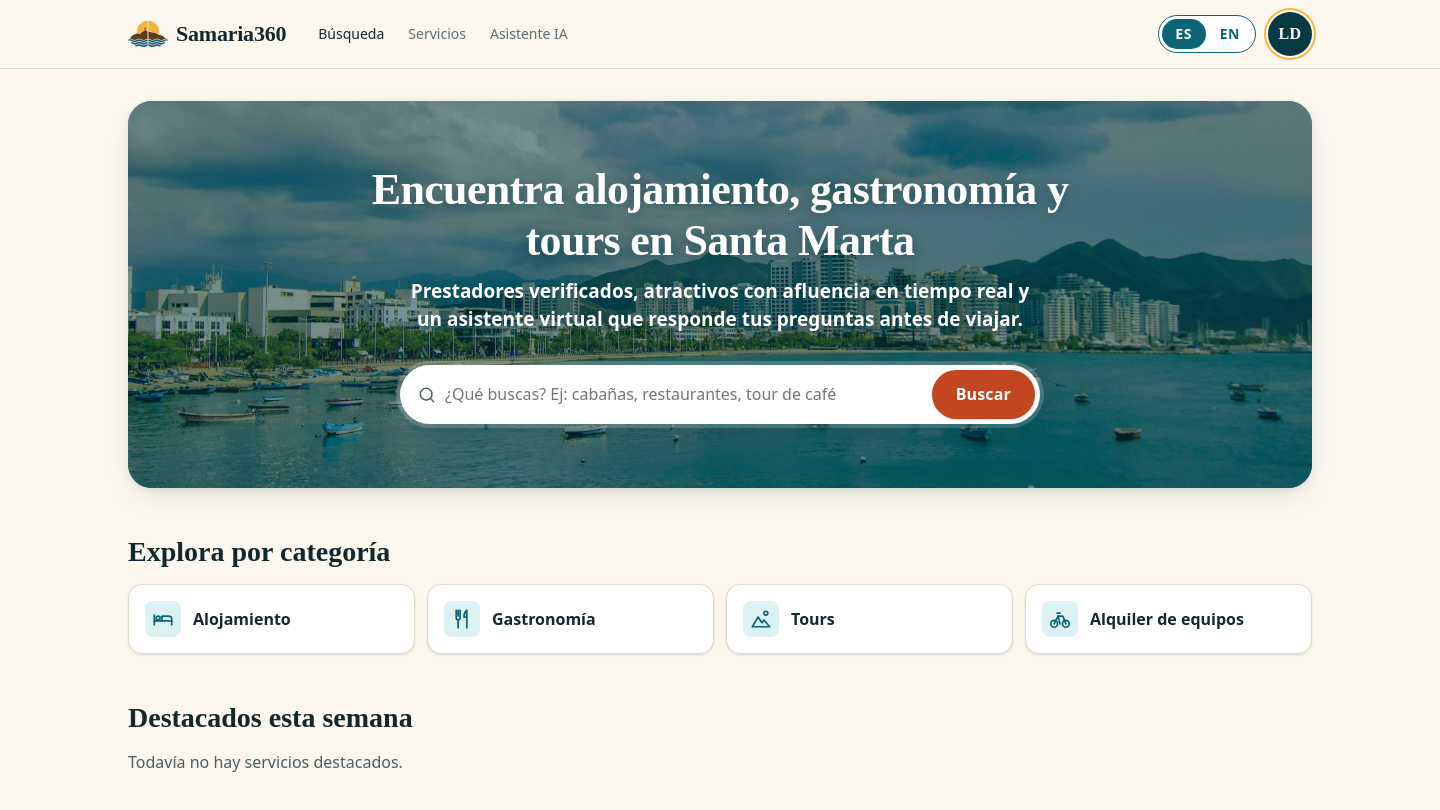
Test: Menú del avatar › para el Administrador, sus cuatro pantallas van antes de «Cerrar sesión» (WF-12 a WF-14 y WF-19, DEC-70, DEC-174)
The width and height of the screenshot is (1440, 810).
Click the button with aria-label "Menú de usuario de Laura Díaz" at (1290, 34), box [1268,12,1312,56]
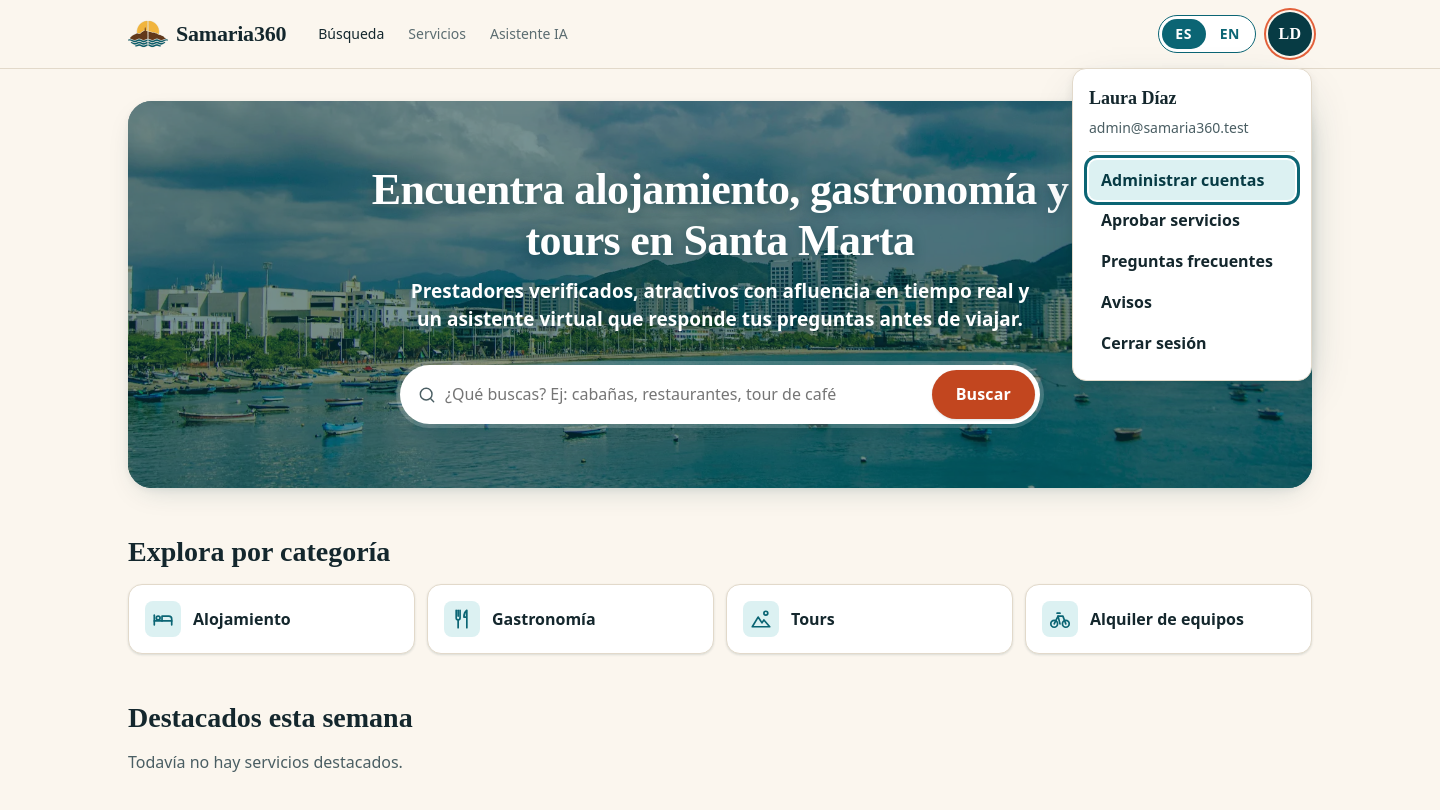
Expected: the menu items read "Administrar cuentas", "Aprobar servicios", "Preguntas frecuentes", "Avisos", "Cerrar sesión", in this order, [1089,160,1295,200]; [1101,209,1240,231]; [1101,250,1273,272]; [1101,291,1152,313]; [1089,323,1295,364]
